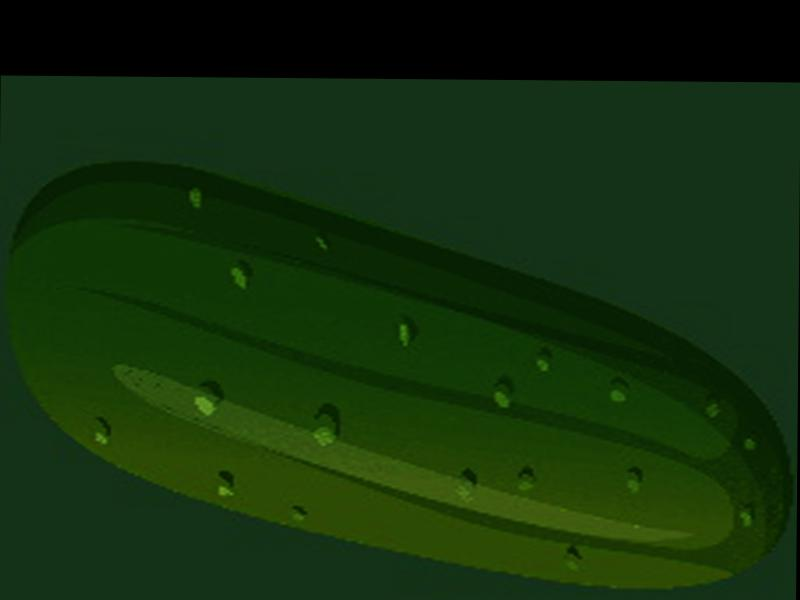Cucumber: (0, 159, 793, 589)
